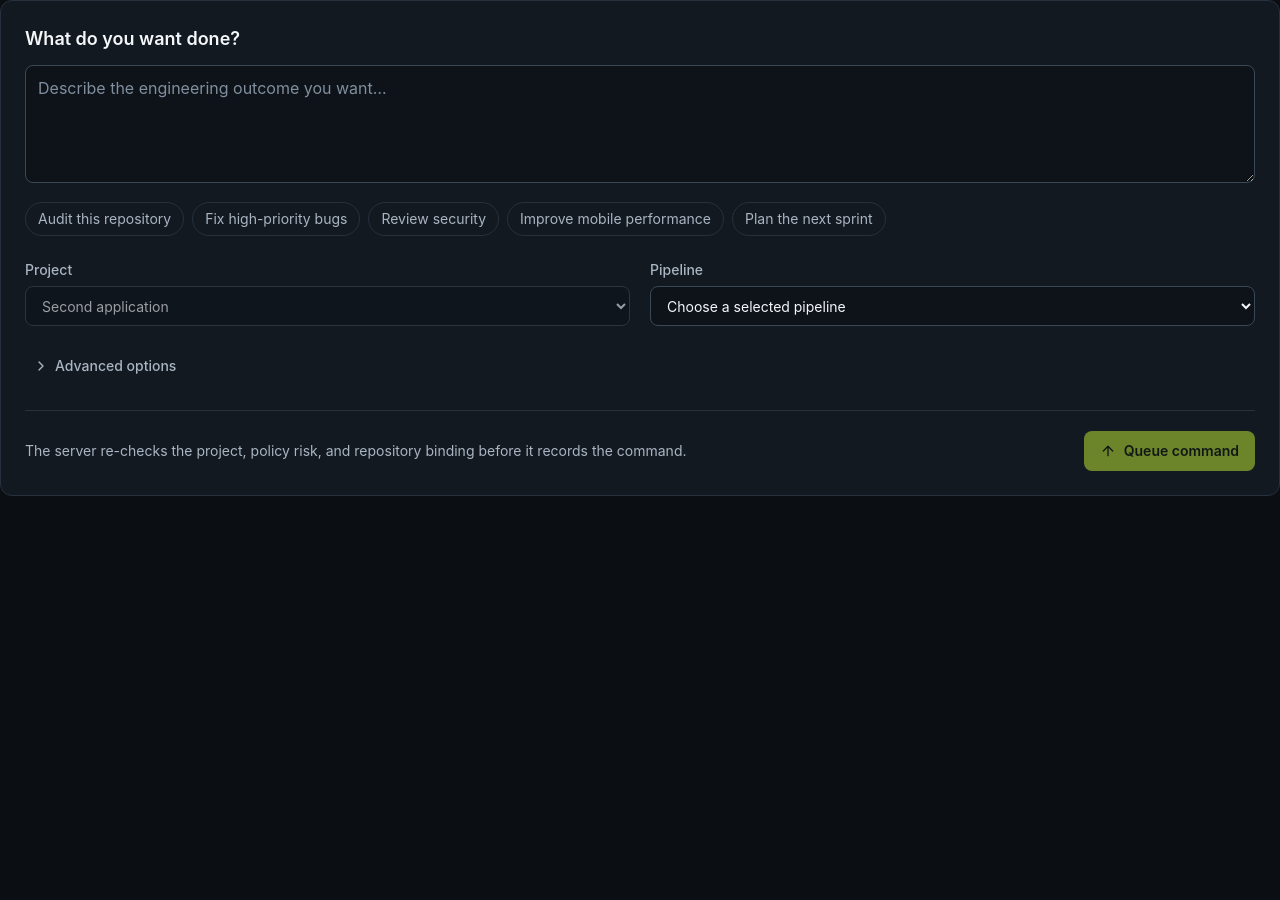
Test: CommandComposer › locks an embedded command to the caller's project instead of the workspace's first
Expected: the dropdown labelled "Project" shows "Second application", [25,286,630,326]
Expected: the dropdown labelled "Project" is disabled, [25,286,630,326]
Type "Audit the selected factory" into the text box labelled "What do you want done?".
click(640, 124); type("Audit the selected factory")  # box [25,65,1255,183]
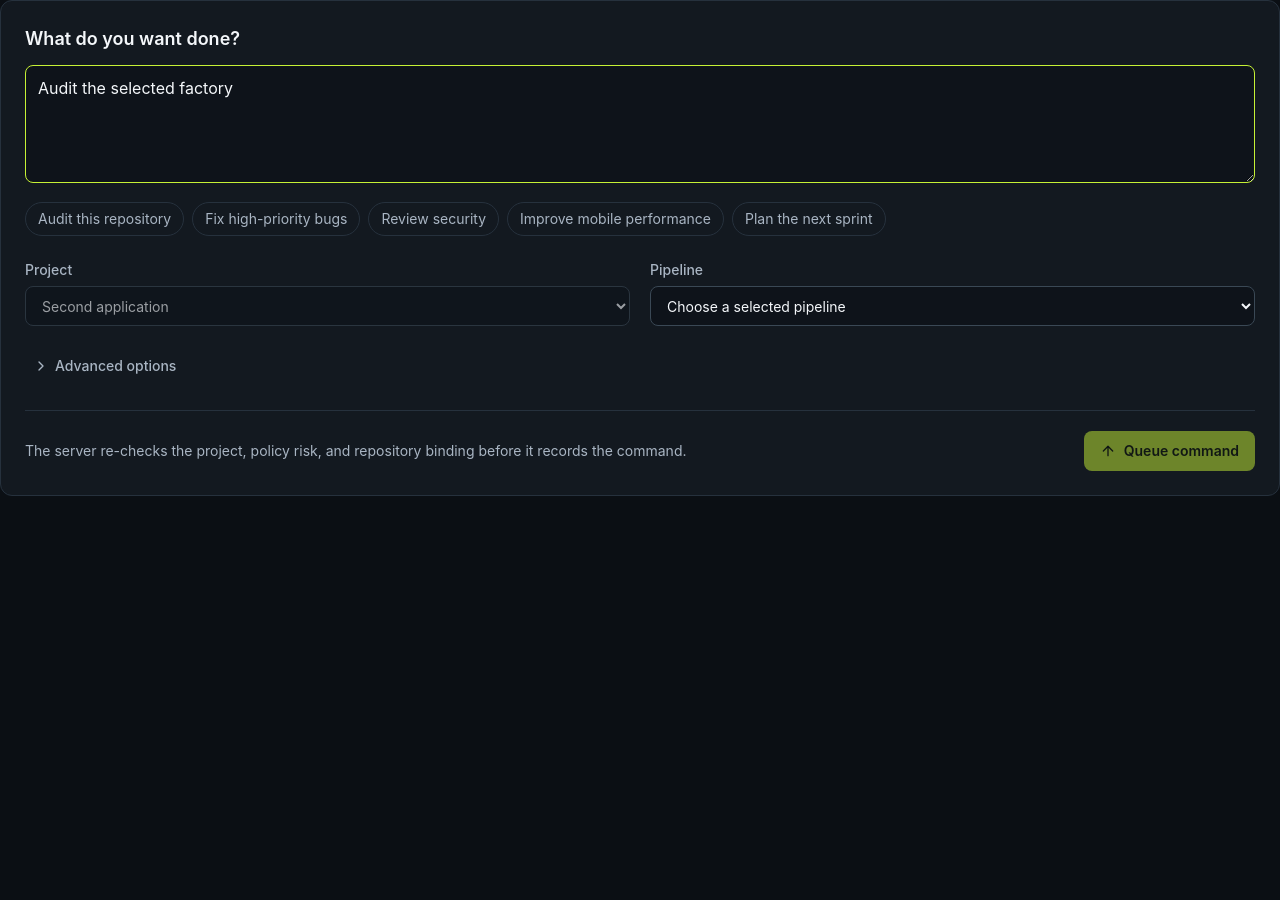
Expected: the button "Queue command" is disabled, [1084,431,1255,471]
Select "Security audit" in the dropdown labelled "Pipeline" at coordinates (952, 306), box [650,286,1255,326]
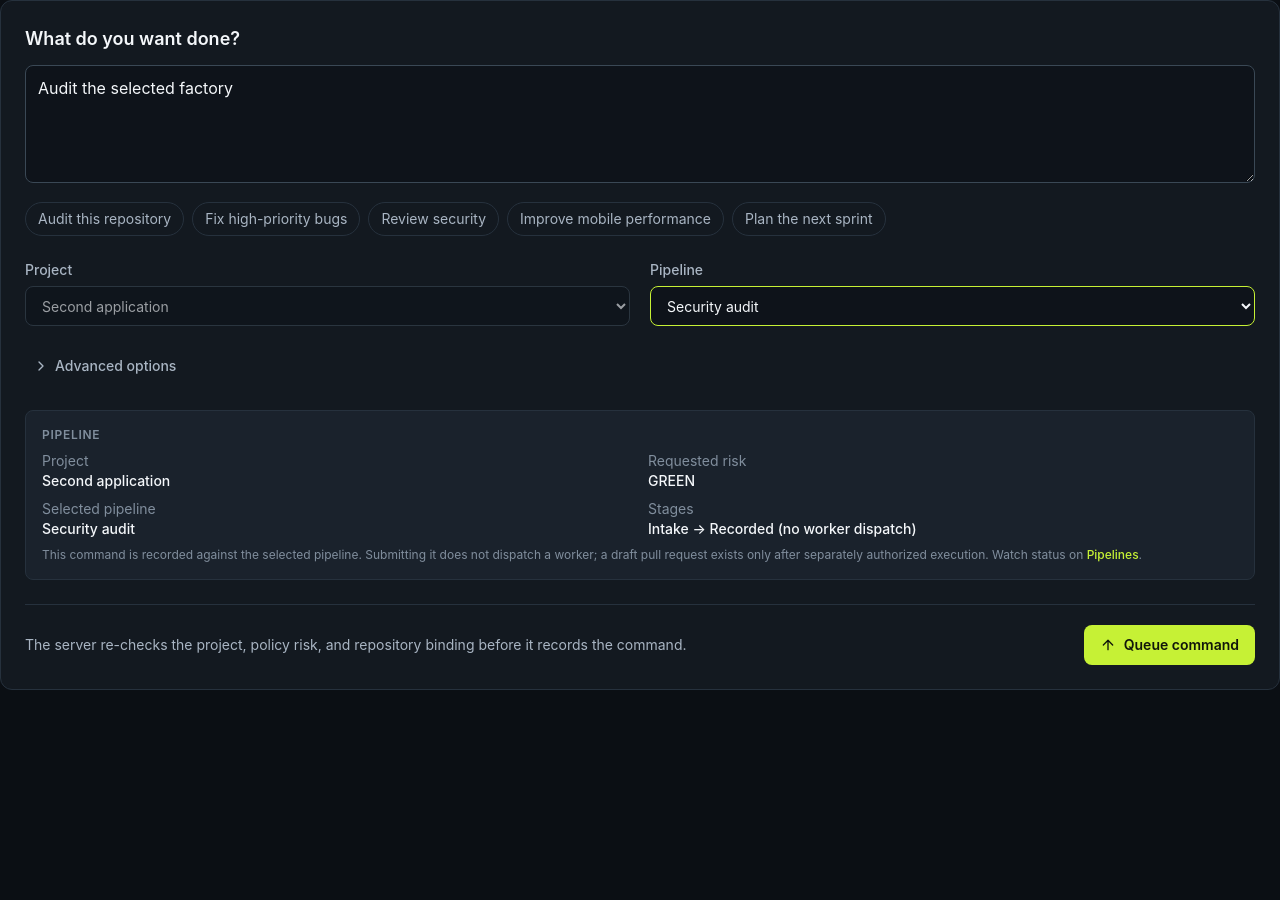
Result: the text "Intake → Recorded (no worker dispatch)" is shown at [648,520,917,537]
Click the button "Queue command".
click(1169, 645)  # box [1084,625,1255,665]
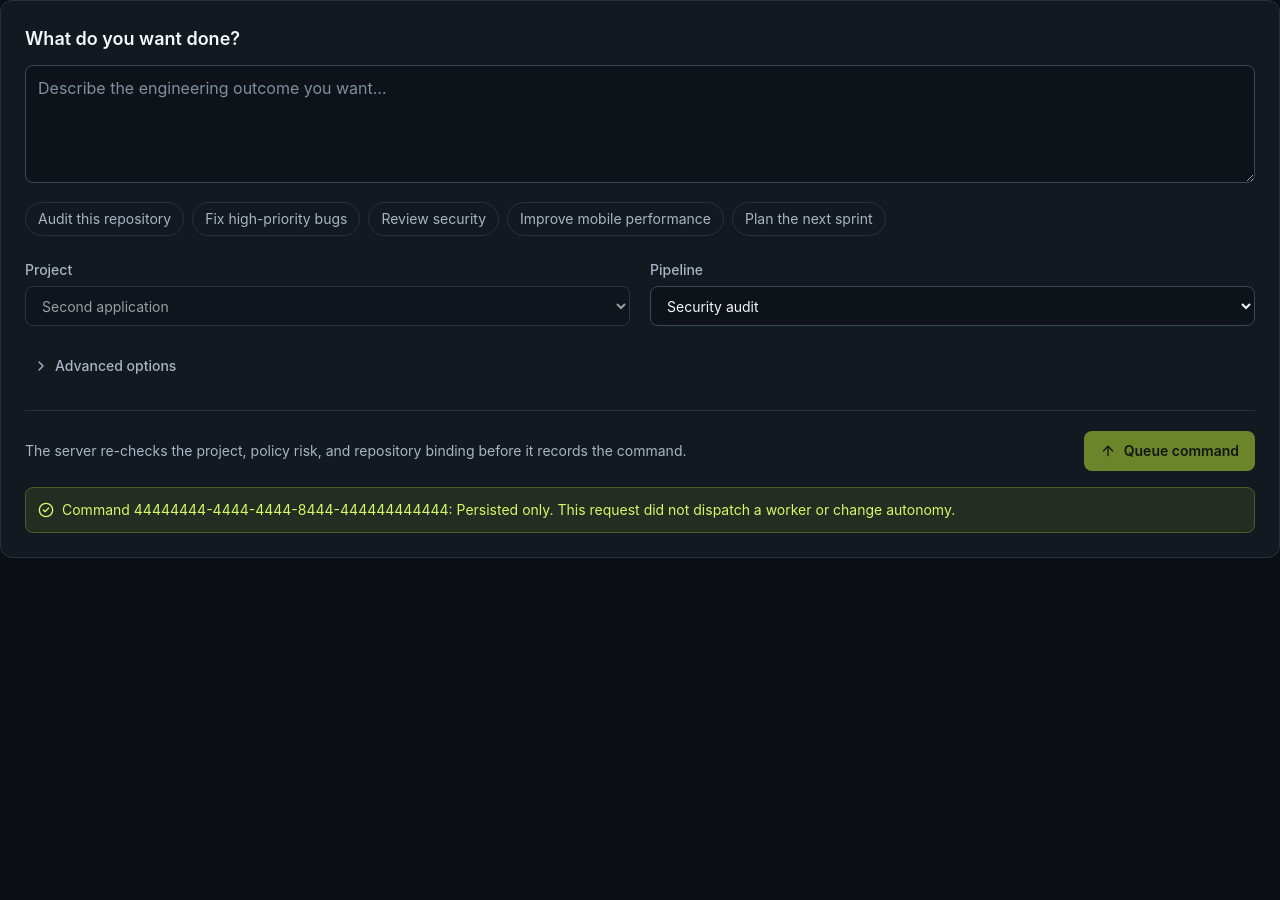
Result: the text "Persisted only. This request did not dispatch a worker or change autonomy." is shown at [62,501,955,518]
